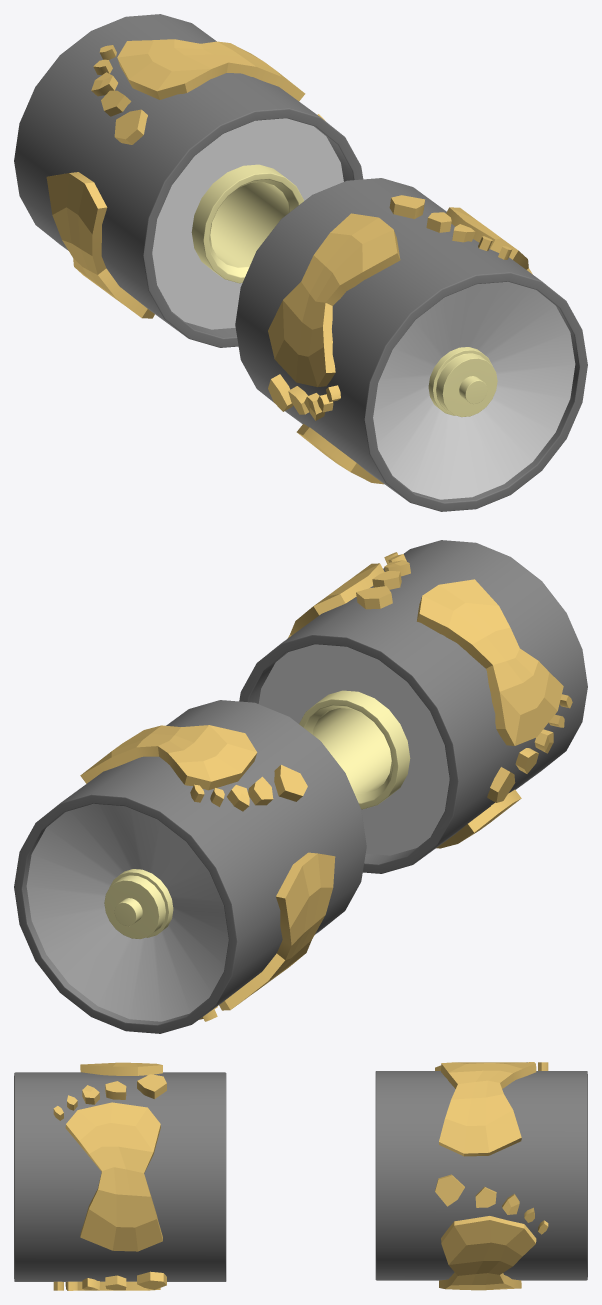
The model's file is fix_wheel_GLTF.glb.
The picture shows the model from 3 angles, top to bottom: view 1: azimuth 30°, elevation 25°; view 2: azimuth 150°, elevation 25°; view 3: azimuth 270°, elevation 25°; orthographic projection. The views are drawn at different scales.
Size of the model in its own units: 17.36 by 17.49 by 43.51.
